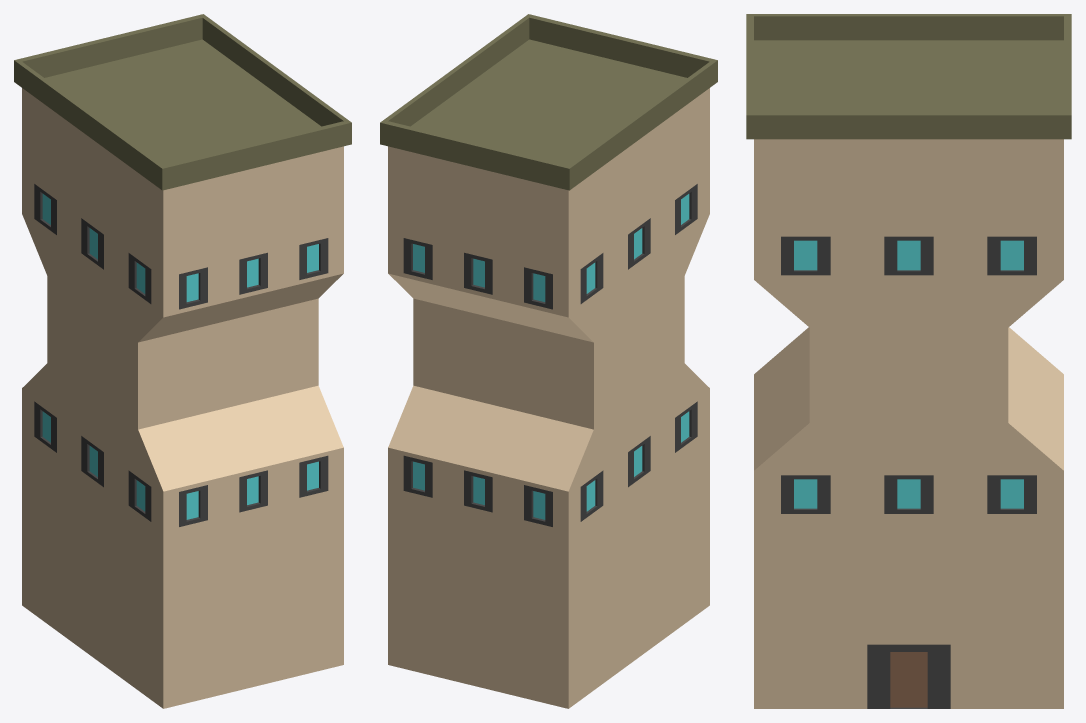
The model's file is random res build 7.fbx.
The picture shows the model from 3 angles, left to right: view 1: azimuth 30°, elevation 25°; view 2: azimuth 150°, elevation 25°; view 3: azimuth 270°, elevation 25°; orthographic projection. The views are drawn at different scales.
Visible parts, largest first — view 1: building_007; view 2: building_007; view 3: building_007.
Boxes of the visible parts, <box> form: building_007: <box>14,14,351,708</box>; building_007: <box>380,14,717,708</box>; building_007: <box>746,14,1071,708</box>.
Bounding box in the file's own units: 4322 × 11852 × 5863.
